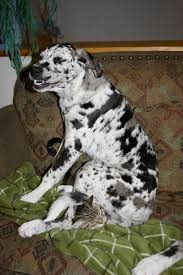dog_sitting: (16, 42, 160, 240)
